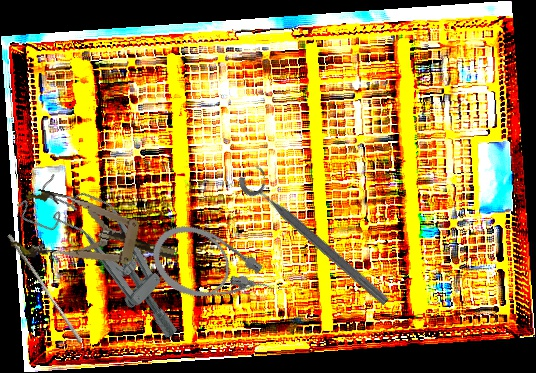Cannula: (140, 212, 285, 329)
Fixation Ring: (234, 160, 400, 311)
Pusher: (2, 233, 87, 344)
Speculum: (12, 157, 208, 351), (9, 185, 182, 289)
